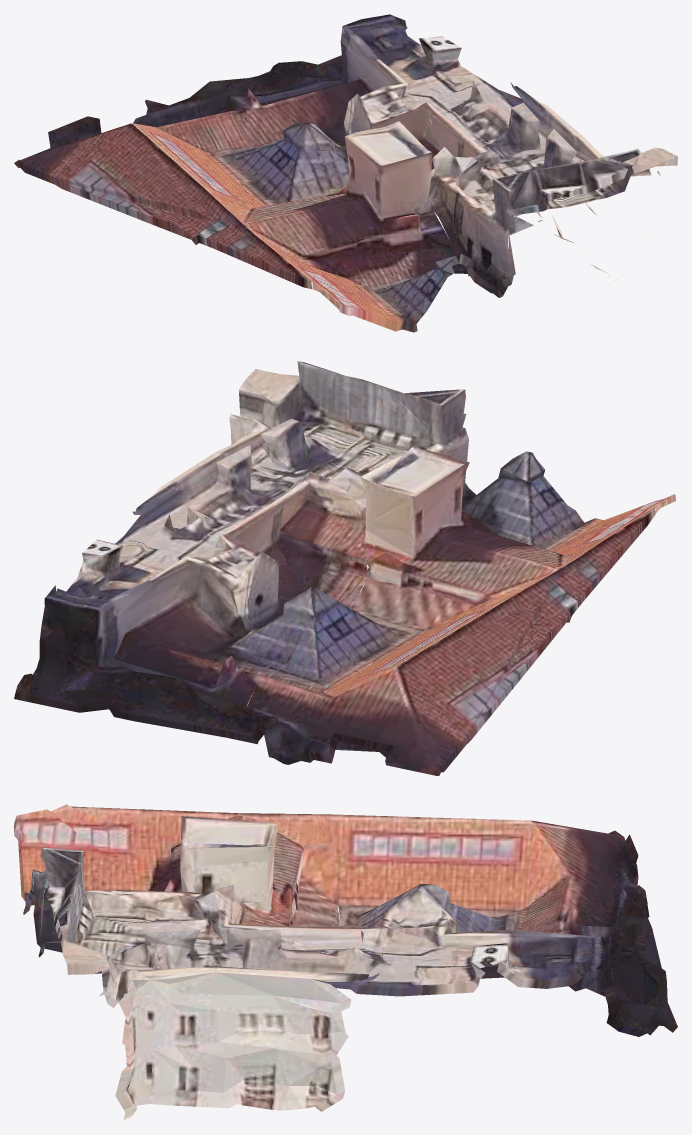
The picture shows the model from 3 angles, top to bottom: view 1: azimuth 30°, elevation 25°; view 2: azimuth 150°, elevation 25°; view 3: azimuth 270°, elevation 25°; orthographic projection. The views are drawn at different scales.
Parts seen in each view (by area): view 1: Mesh_0; view 2: Mesh_0; view 3: Mesh_0.
Boxes of the visible parts, x1=… form: Mesh_0: x1=14, y1=14, x2=677, y2=332; Mesh_0: x1=14, y1=361, x2=675, y2=775; Mesh_0: x1=14, y1=804, x2=677, y2=1120.
Size of the model in its own units: 33.3 by 12.49 by 41.34.
Materials: 1 (1 with a texture image).
